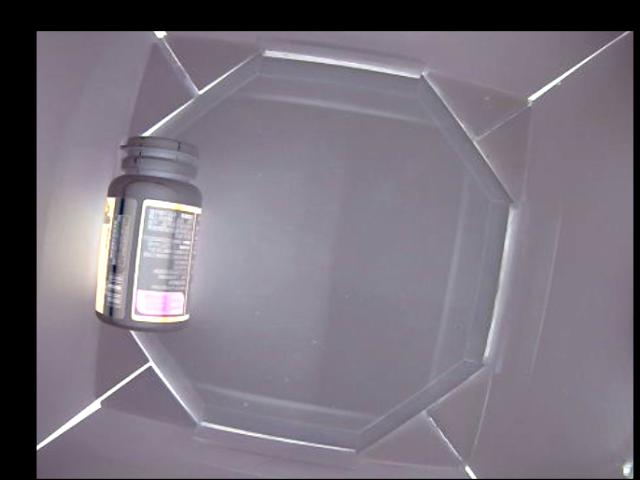Bottle: (90, 136, 199, 325)
